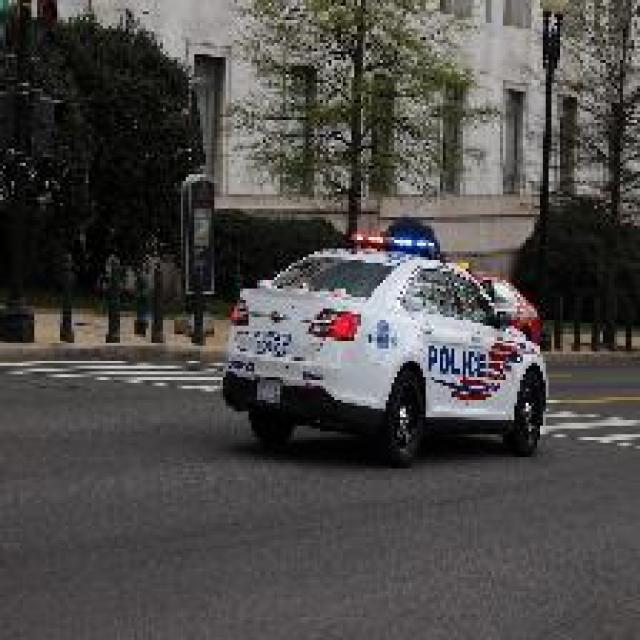emergency: (216, 220, 552, 466)
